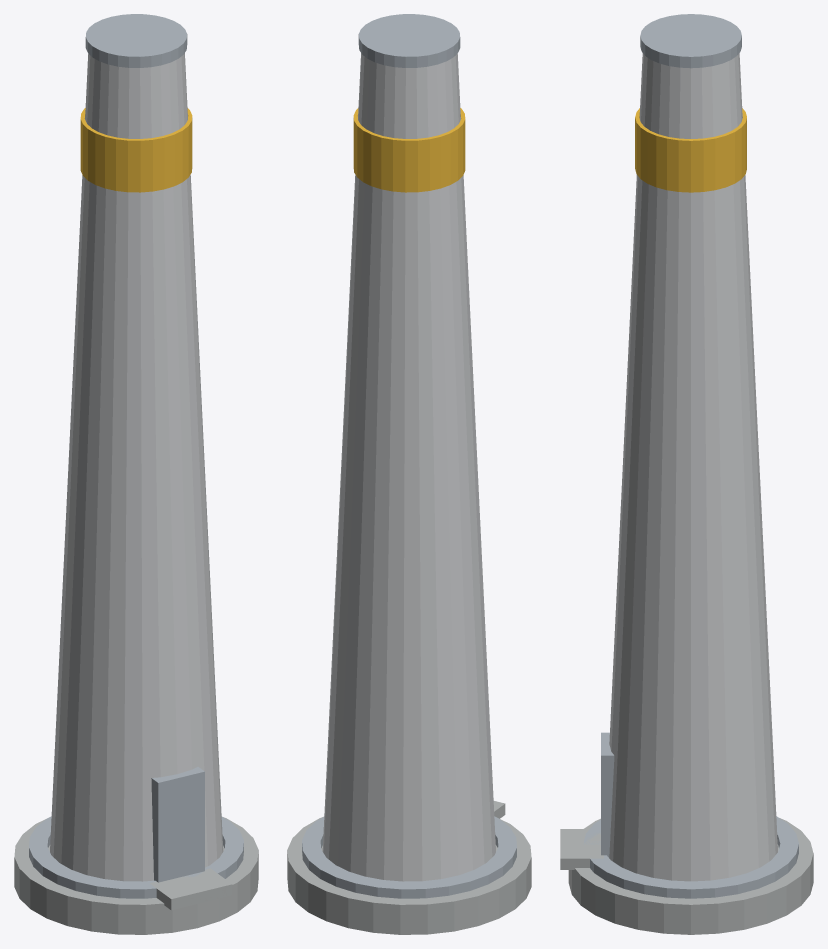
Rendered from ENERGY-016.glb.
3 views of the same model, side by side, from view 1: azimuth 30°, elevation 25°; view 2: azimuth 150°, elevation 25°; view 3: azimuth 270°, elevation 25° (orthographic).
Visible parts, largest first — view 1: ENERGY-016; view 2: ENERGY-016; view 3: ENERGY-016.
Part boxes in pixels (left/top/right/bottom): ENERGY-016: left=14, top=14, right=258, bottom=934; ENERGY-016: left=287, top=14, right=531, bottom=934; ENERGY-016: left=560, top=14, right=813, bottom=934.
Bounding box in the file's own units: 2.36 × 9.02 × 2.44.
